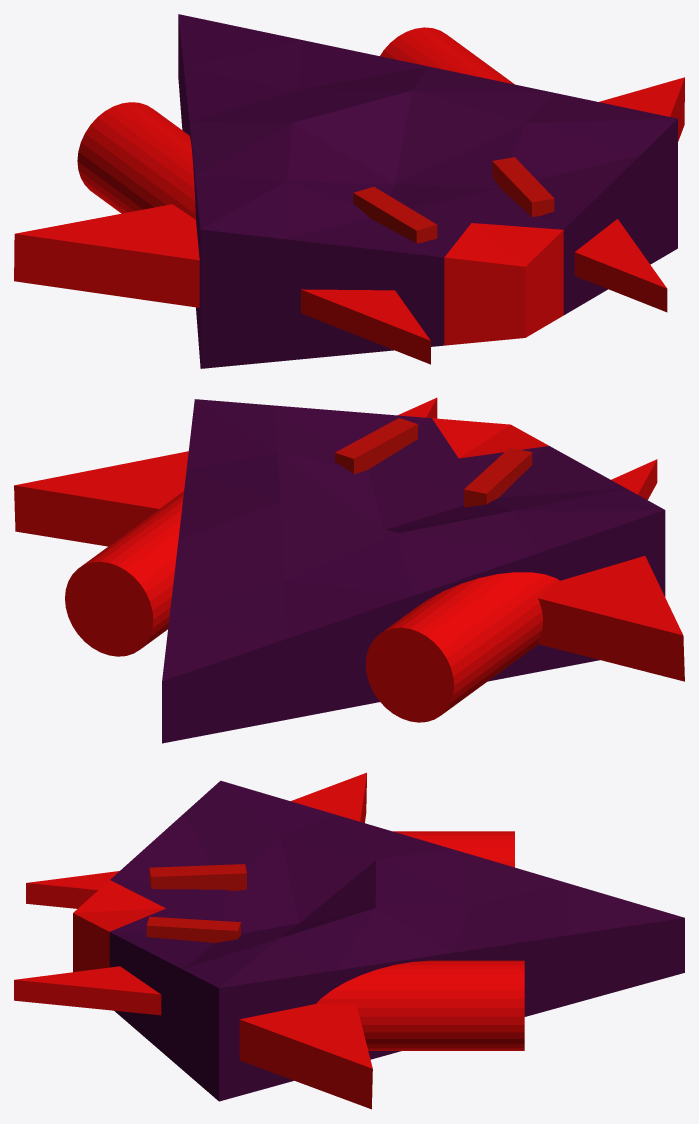
Rendered from enemy_2.fbx.
3 views of the same model, one above another, from view 1: azimuth 30°, elevation 25°; view 2: azimuth 150°, elevation 25°; view 3: azimuth 270°, elevation 25° (orthographic). The views are drawn at different scales.
Visible parts, largest first — view 1: Cube; view 2: Cube; view 3: Cube.
Boxes of the visible parts, box(x1,y1,x2,y2) form: Cube: box(14, 14, 684, 368); Cube: box(14, 397, 684, 743); Cube: box(14, 772, 684, 1109).
Bounding box in the file's own units: 4.65 × 0.9221 × 4.58.
